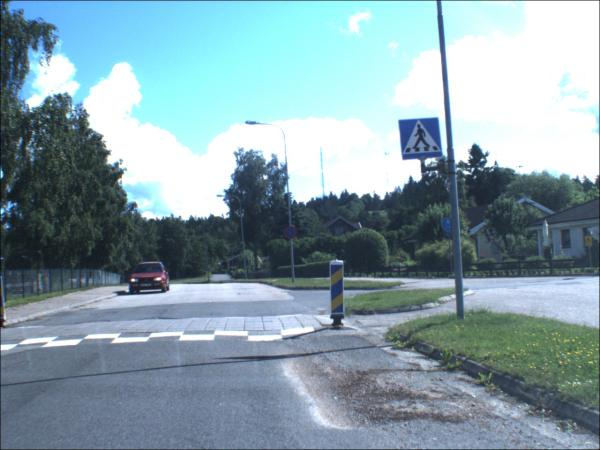NO_PARKING: (286, 227, 300, 241)
PEDESTRIAN_CROSSING: (398, 119, 445, 161)
